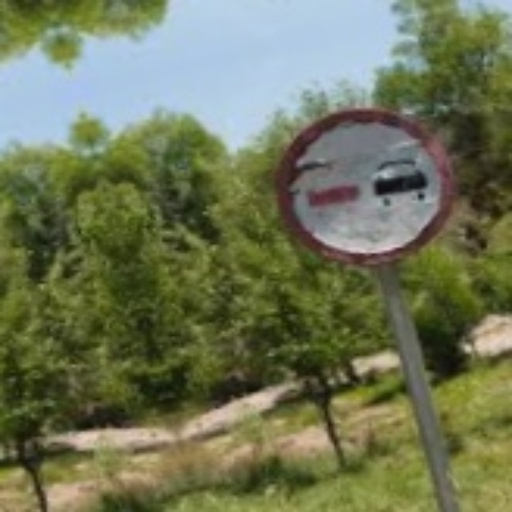No overtake: (267, 96, 463, 273)
